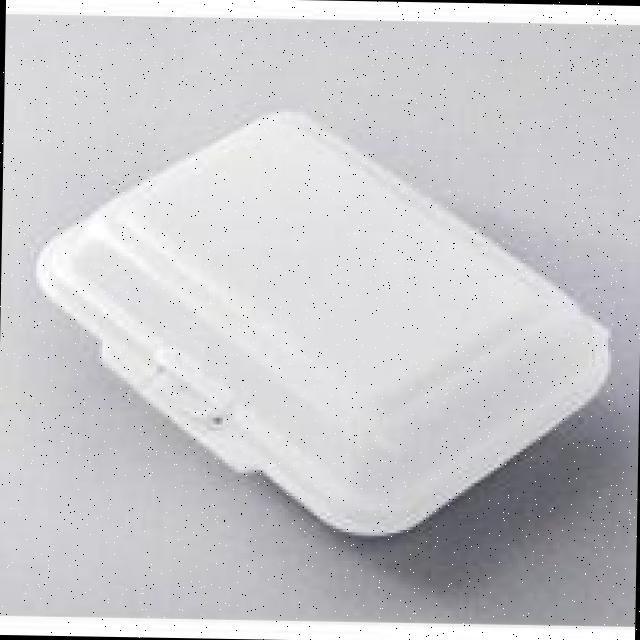styrofoam: (28, 98, 615, 542)
